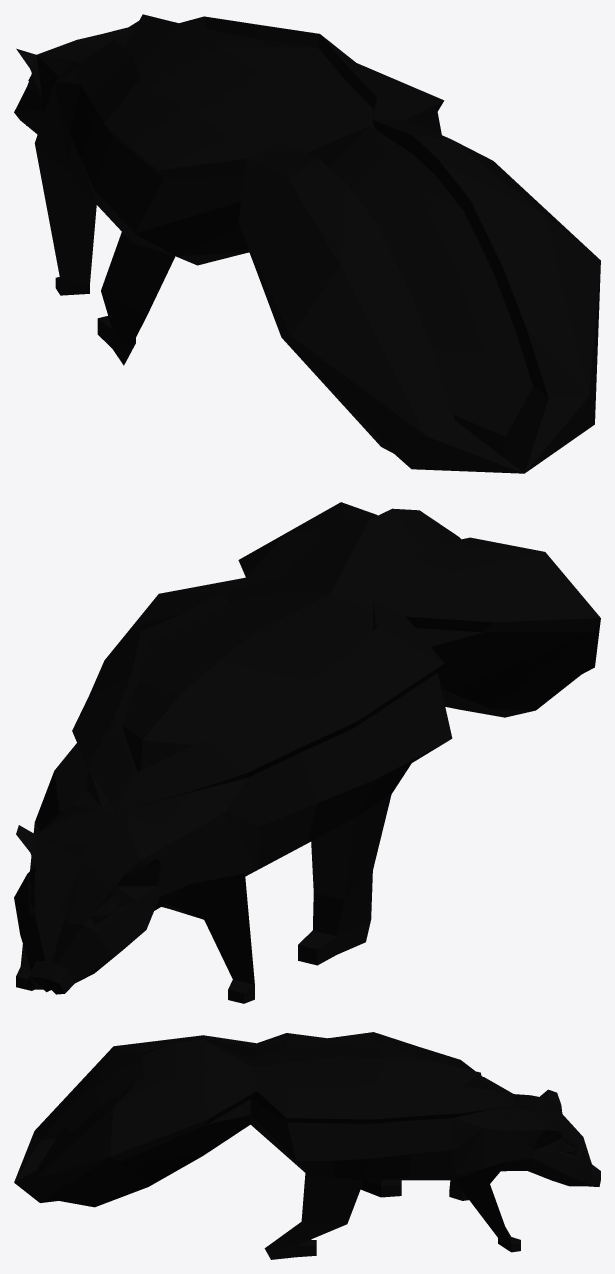
Rendered from moufsaka.obj.
3 views of the same model, one above another, from view 1: azimuth 30°, elevation 25°; view 2: azimuth 150°, elevation 25°; view 3: azimuth 270°, elevation 25° (orthographic). The views are drawn at different scales.
Visible parts, largest first — view 1: Muffa; view 2: Muffa; view 3: Muffa.
Part boxes in pixels (x1,y1,x2,y2): Muffa: [14, 14, 600, 473]; Muffa: [14, 502, 600, 1003]; Muffa: [14, 1032, 600, 1259].
Bounding box in the file's own units: 184 × 169 × 487.
